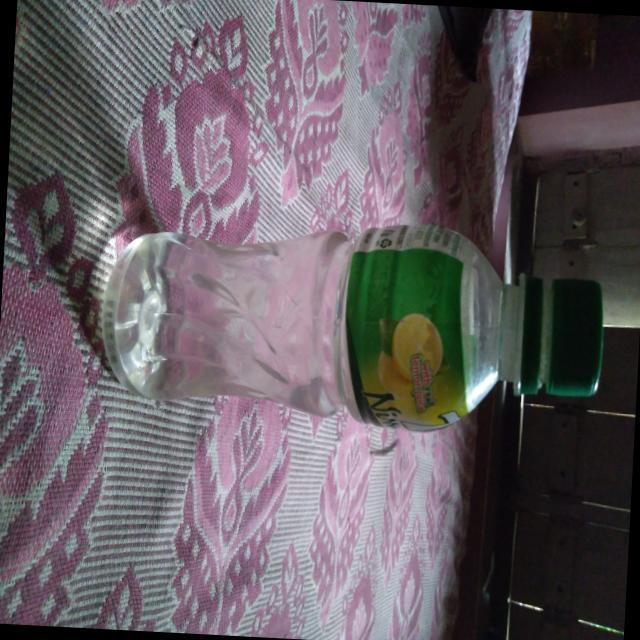good: (80, 210, 613, 449)
